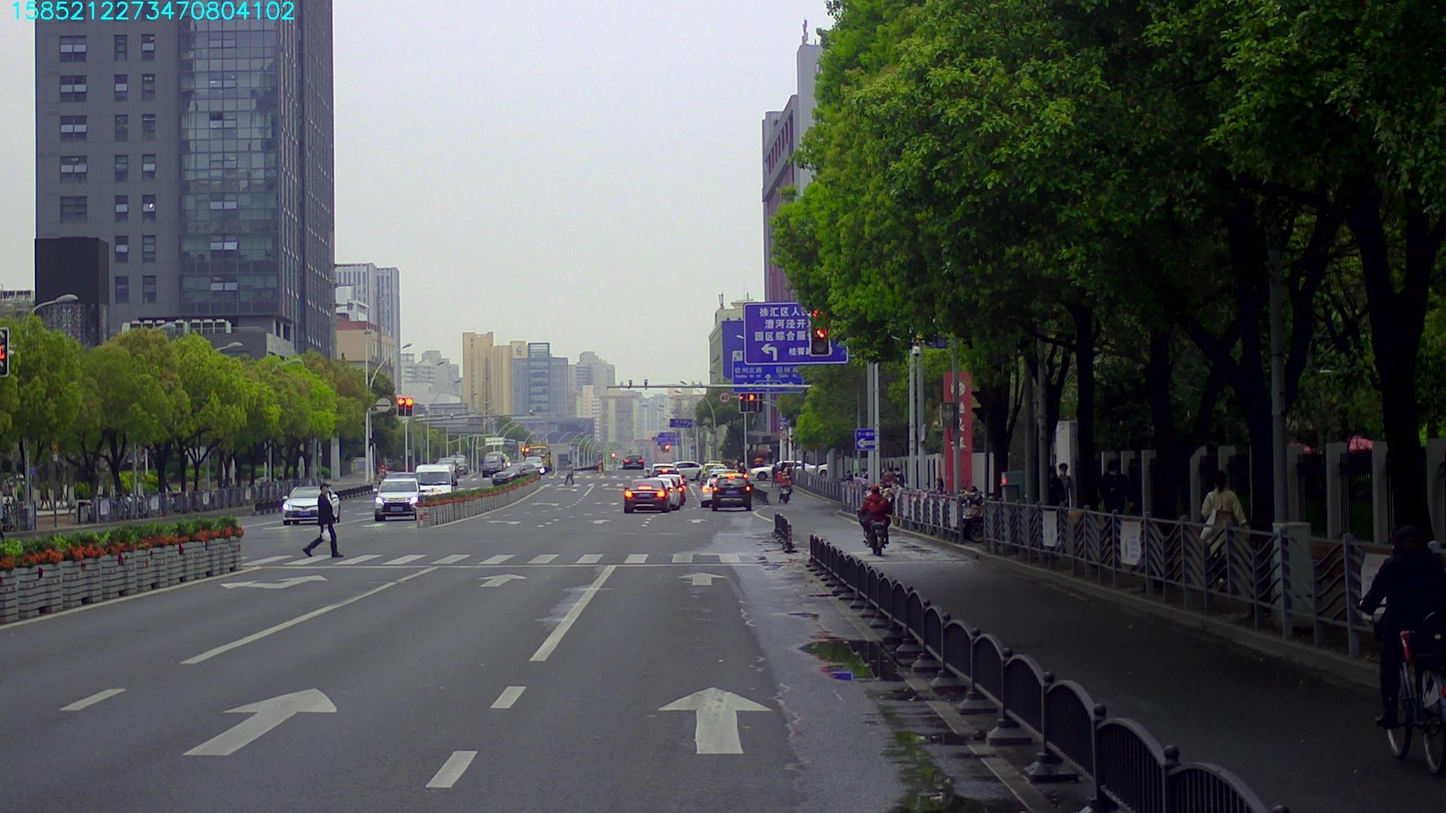red: (810, 308, 828, 354), (748, 392, 757, 410), (396, 397, 404, 415), (739, 394, 747, 411), (405, 397, 412, 416)
